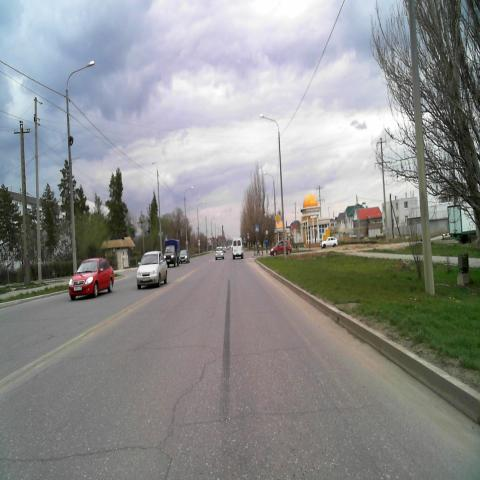2_1: (275, 212, 281, 224)
5_19_1: (256, 225, 260, 232)
